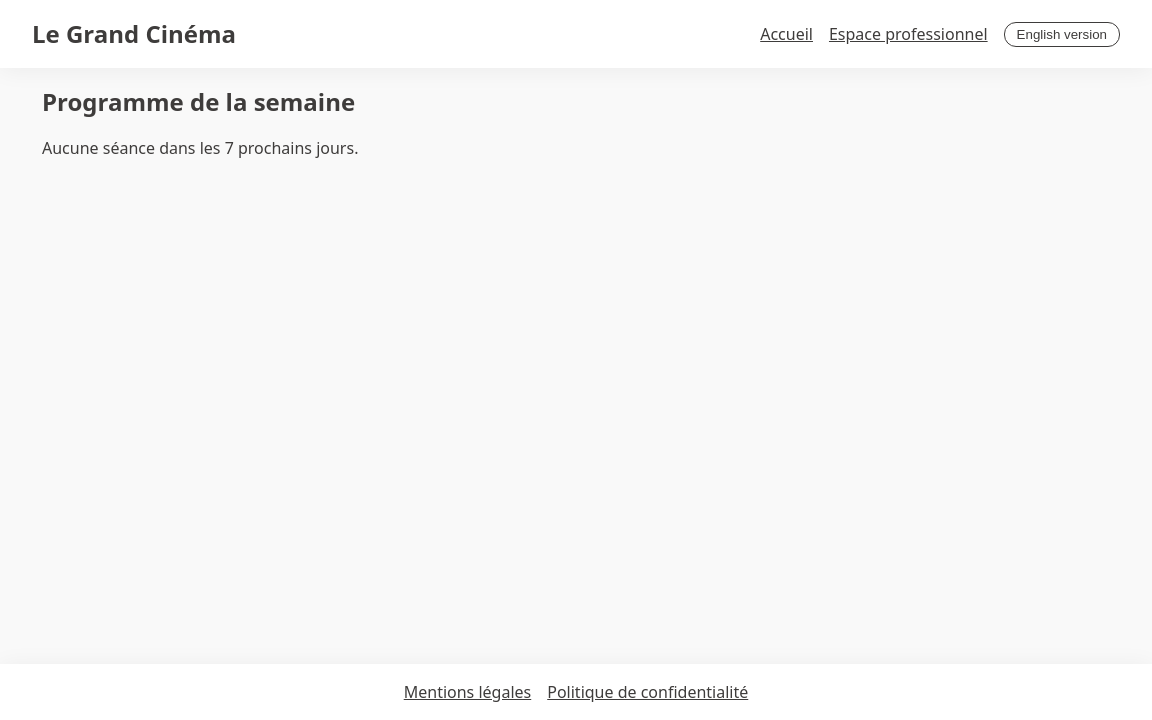
Test: App › passe l'interface en anglais
Click the button "English version": (1062, 34) [1004,22,1120,46]
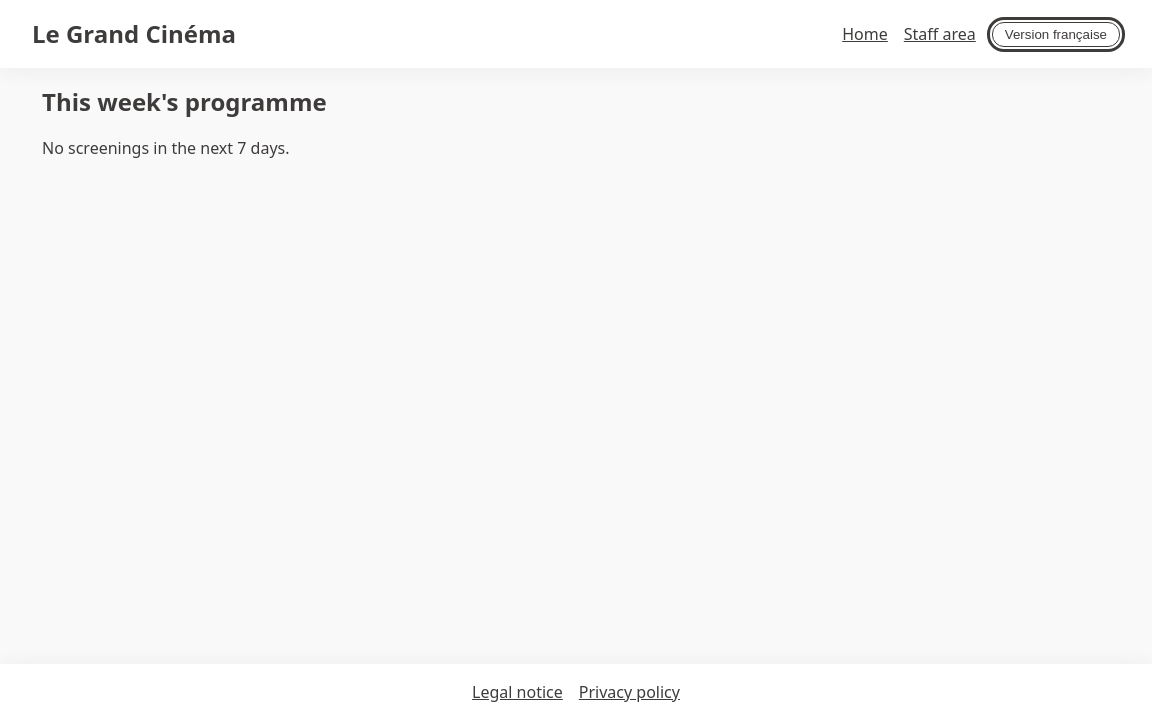
Now the heading "This week's programme" is shown, box [42,85,327,118]
